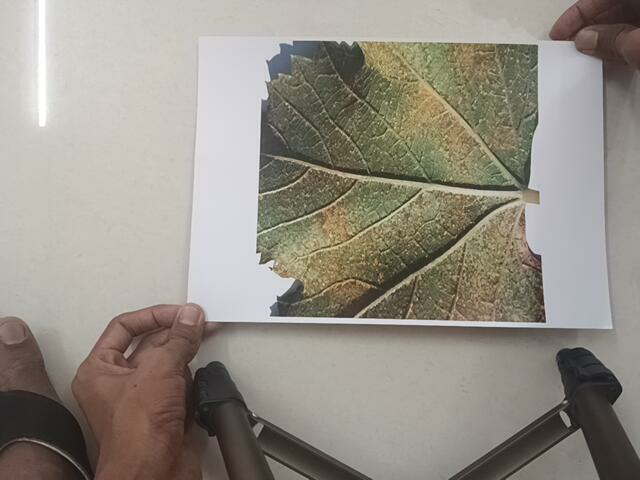Grape_Rust_Fungus: (258, 31, 552, 325)
